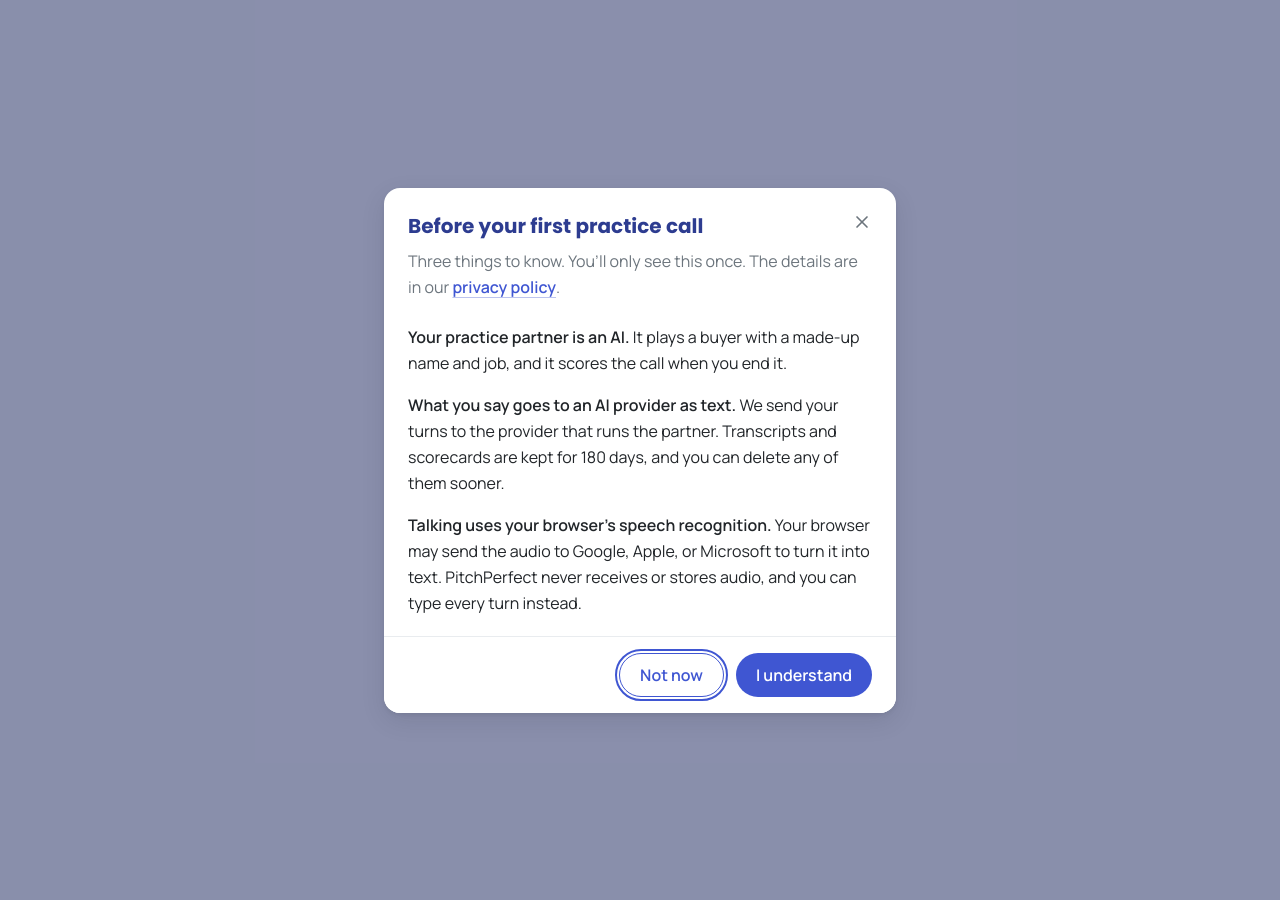
Test: ConsentDialog › keeps the dialog open and explains a failure
The image size is (1280, 900).
Click the button "I understand": (804, 674) [736,652,872,696]
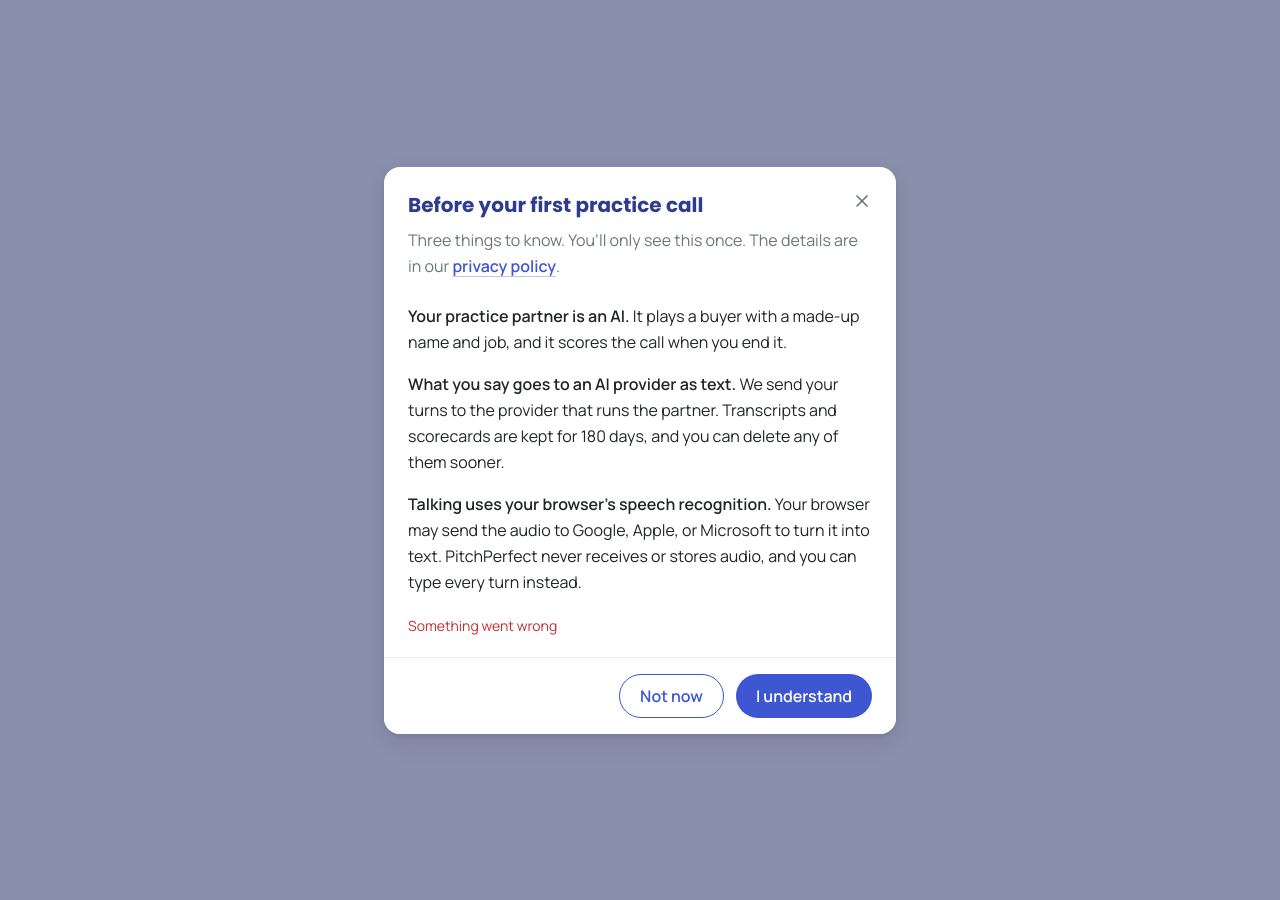
Expected: the message reads "Something went wrong", [408,616,557,634]
